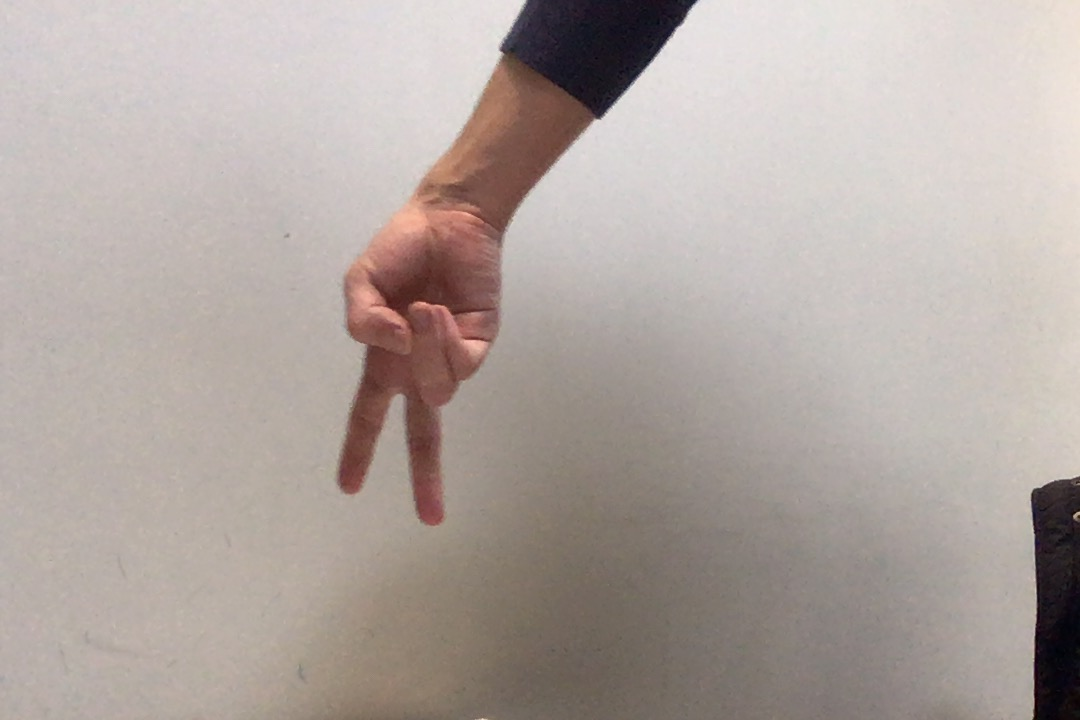peacesign: (332, 203, 505, 528)
